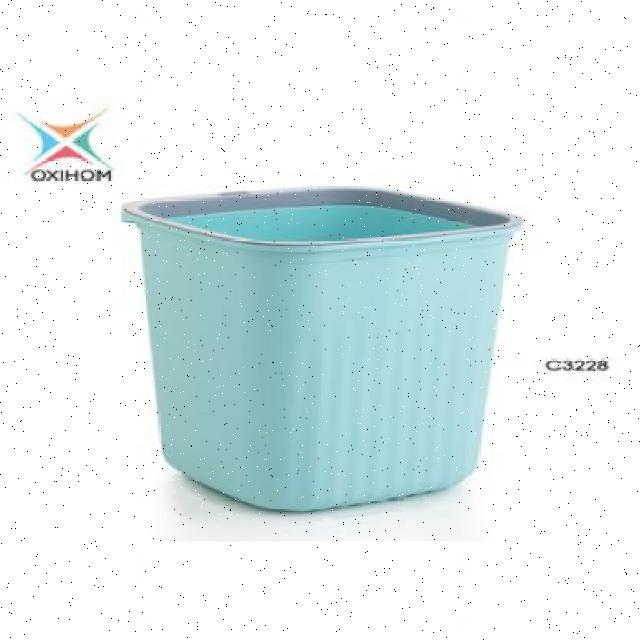garbage container: (113, 181, 541, 526)
